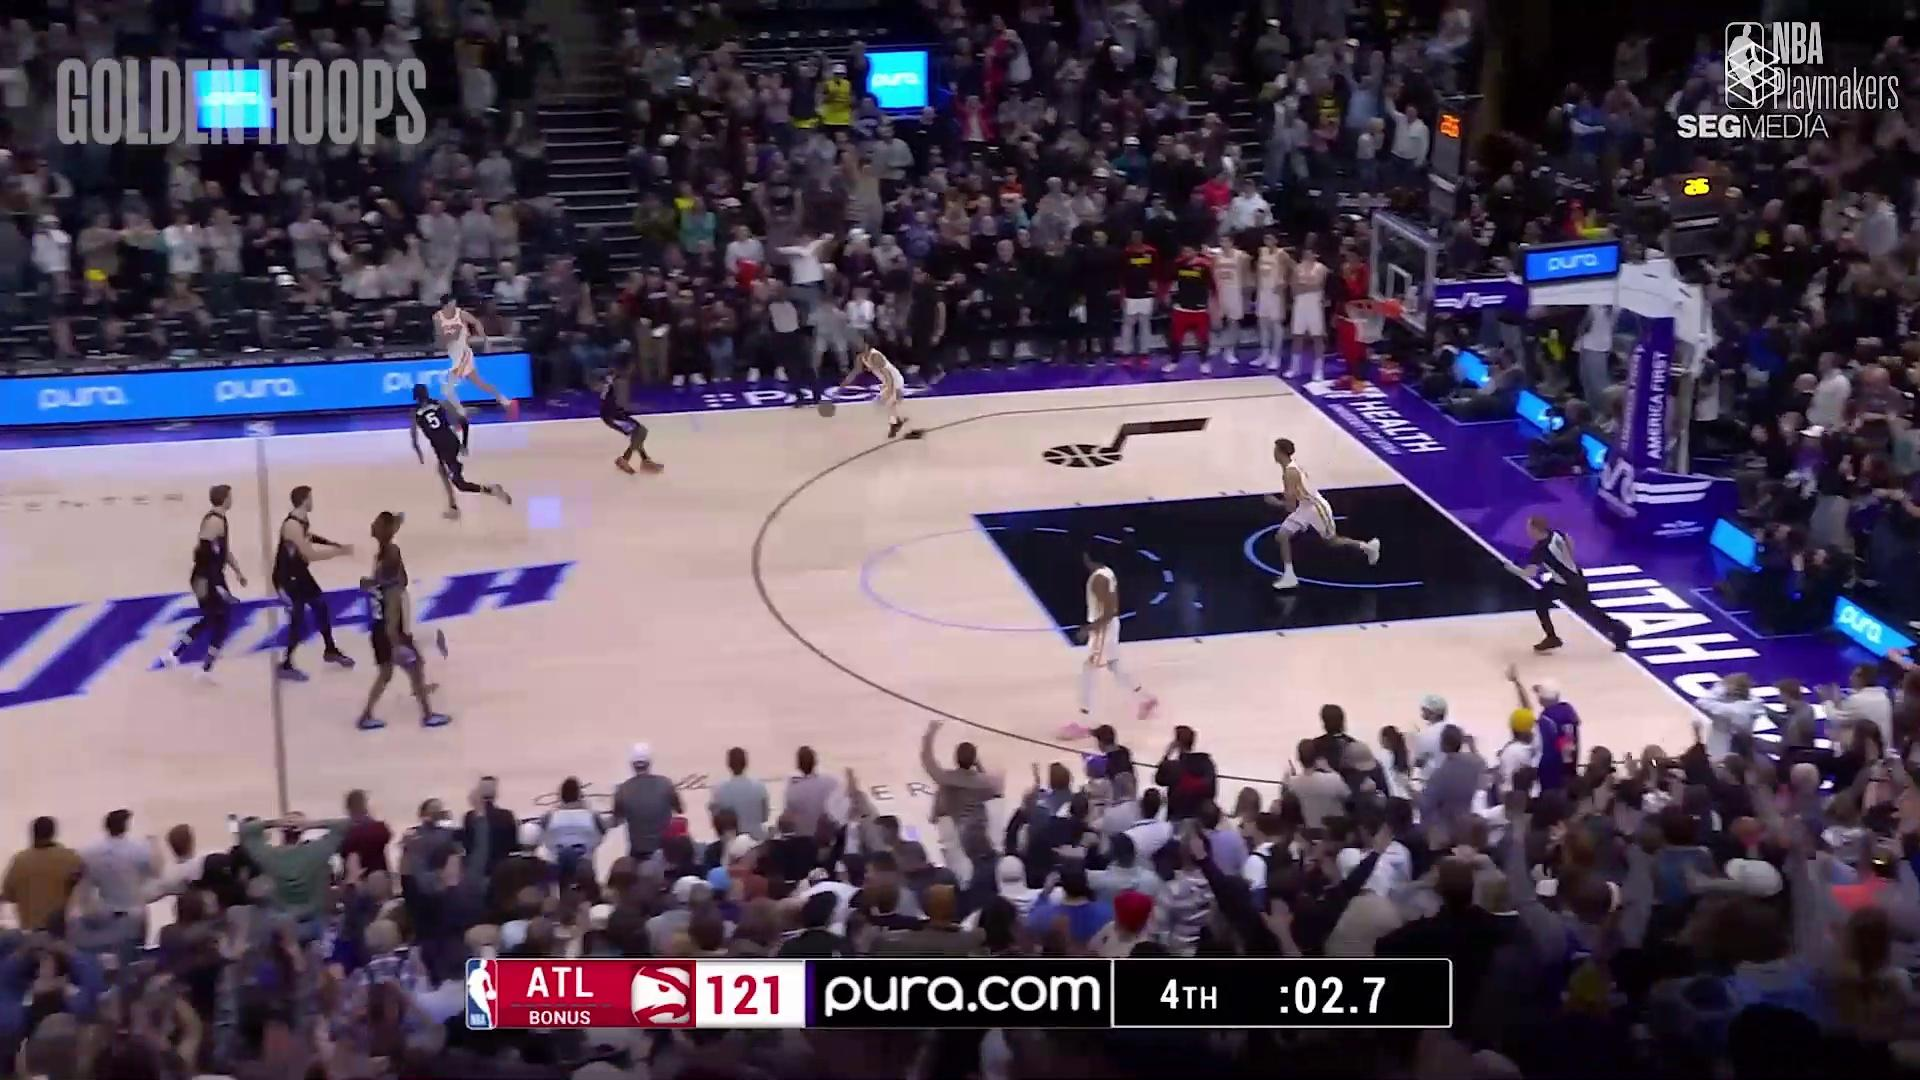ball: (812, 397, 845, 419)
hoop: (1350, 293, 1395, 349)
